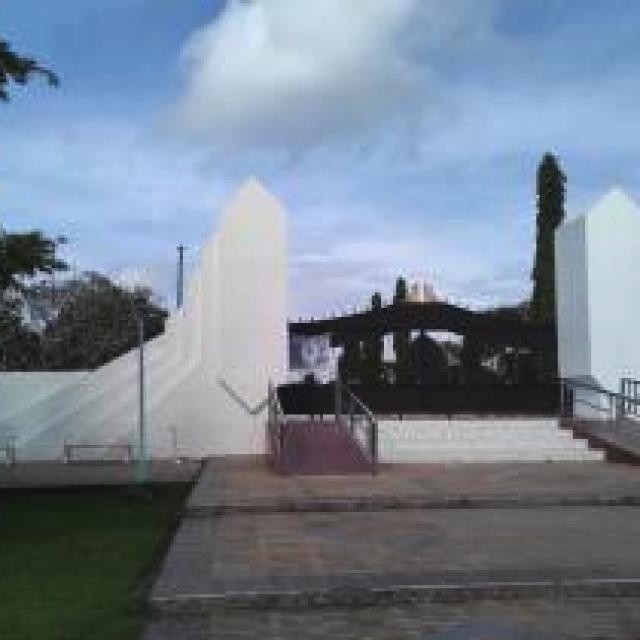upstair: (367, 407, 604, 471)
